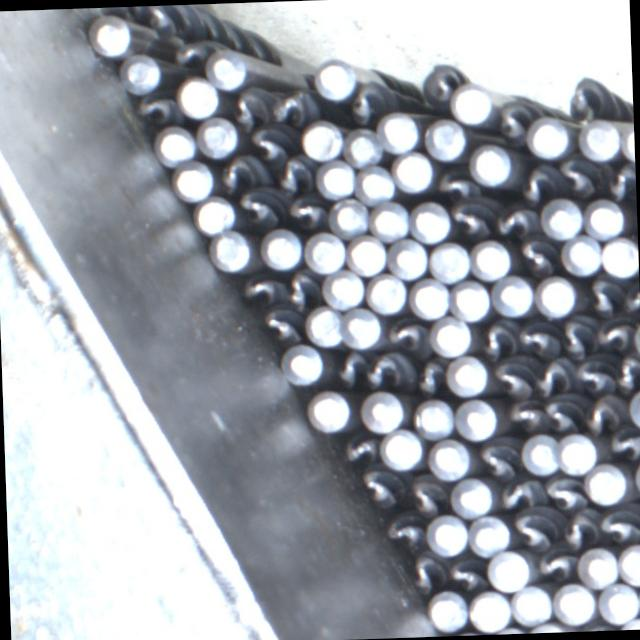tool: (303, 387, 351, 435), (448, 394, 496, 442), (356, 388, 406, 433), (256, 226, 302, 272), (518, 432, 564, 476), (466, 588, 511, 632), (577, 116, 622, 160), (278, 341, 322, 386), (526, 116, 572, 159), (377, 110, 421, 154), (484, 549, 528, 592), (428, 436, 472, 479), (426, 512, 469, 556), (342, 127, 386, 170), (175, 75, 218, 118), (424, 590, 468, 632), (596, 580, 640, 622), (442, 354, 486, 396), (424, 116, 466, 159), (450, 278, 492, 321), (429, 314, 472, 356), (509, 584, 552, 626), (304, 232, 347, 274), (470, 237, 512, 280), (492, 274, 535, 316), (379, 428, 423, 469), (366, 272, 408, 314), (206, 48, 248, 90), (409, 200, 451, 242), (552, 582, 594, 624), (428, 240, 471, 281), (540, 198, 583, 239), (536, 273, 577, 316), (450, 477, 493, 518), (450, 83, 494, 123), (469, 512, 509, 556), (392, 150, 434, 191), (197, 116, 239, 157), (469, 143, 511, 184), (172, 161, 215, 201), (192, 194, 235, 234), (347, 234, 388, 275), (409, 278, 451, 318), (322, 268, 364, 308), (584, 464, 626, 504), (304, 306, 344, 348), (210, 230, 252, 270), (313, 60, 356, 99), (299, 122, 343, 160), (560, 233, 600, 274), (370, 200, 410, 241), (583, 196, 624, 236), (156, 124, 197, 164), (412, 398, 453, 438), (91, 16, 132, 56), (119, 50, 160, 90), (600, 234, 638, 277), (388, 238, 428, 278), (558, 432, 596, 474), (343, 309, 382, 348), (332, 197, 371, 234), (318, 160, 354, 199), (356, 164, 392, 202), (617, 540, 640, 585)
tool_b: (566, 71, 610, 121), (419, 62, 466, 108), (353, 464, 402, 508), (212, 150, 268, 188), (269, 84, 319, 126), (284, 192, 334, 234), (242, 124, 296, 162), (270, 153, 320, 194), (168, 33, 220, 72), (491, 98, 535, 144), (582, 391, 629, 433), (558, 154, 602, 198), (510, 510, 559, 548), (363, 351, 416, 386), (514, 159, 558, 201), (476, 436, 520, 478), (258, 306, 306, 344), (406, 470, 448, 513), (449, 198, 491, 240), (348, 80, 388, 124), (514, 234, 558, 274), (556, 312, 594, 358), (131, 90, 182, 124), (385, 510, 426, 552), (228, 86, 270, 126), (530, 356, 572, 396), (572, 353, 614, 393), (488, 359, 532, 397), (517, 316, 557, 357), (237, 272, 280, 310), (433, 164, 476, 202), (474, 318, 517, 356), (597, 504, 640, 542), (493, 198, 537, 235), (540, 472, 584, 509), (406, 552, 446, 592), (444, 550, 486, 588), (542, 394, 583, 432), (337, 428, 378, 466), (236, 190, 276, 228), (494, 476, 540, 509), (382, 316, 424, 352), (561, 508, 597, 550), (581, 276, 620, 314), (501, 396, 544, 429), (284, 272, 320, 311), (592, 316, 631, 352), (332, 348, 365, 388), (533, 546, 574, 578), (605, 161, 636, 201), (604, 427, 640, 461), (413, 357, 442, 394), (611, 354, 640, 390), (622, 278, 640, 316)
